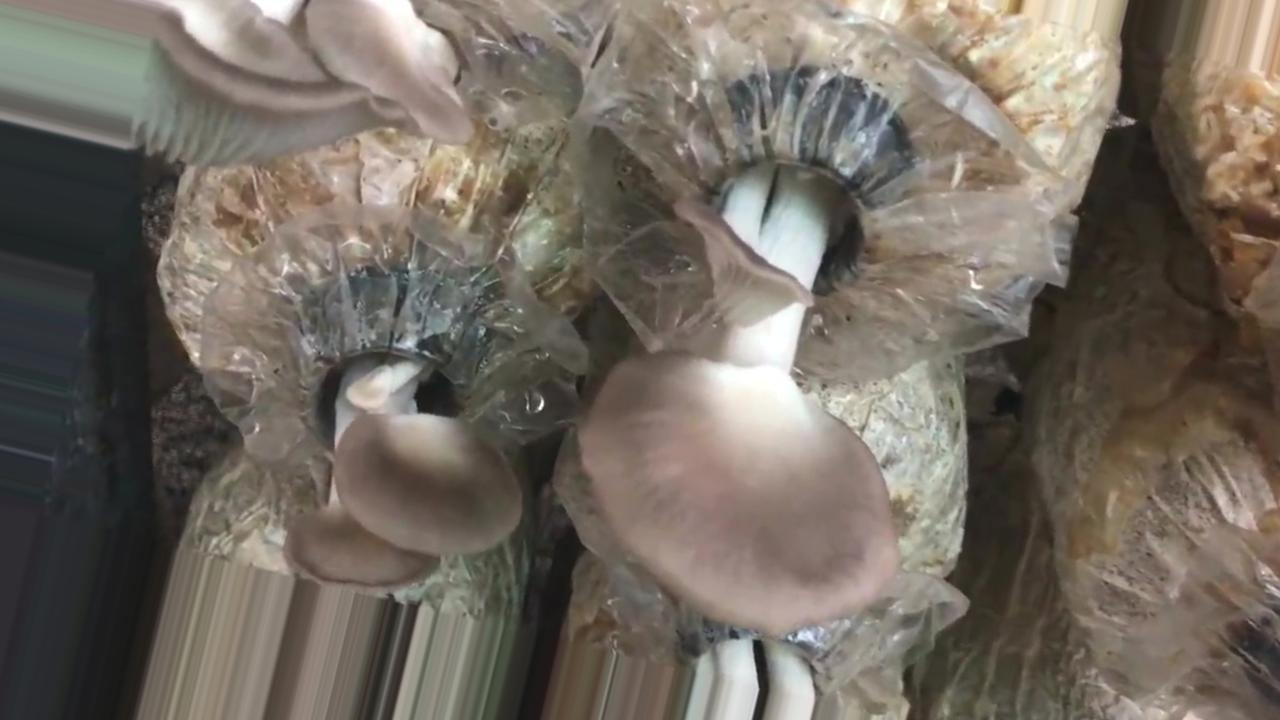nam: (560, 113, 903, 628), (289, 285, 521, 589), (146, 3, 475, 146)
